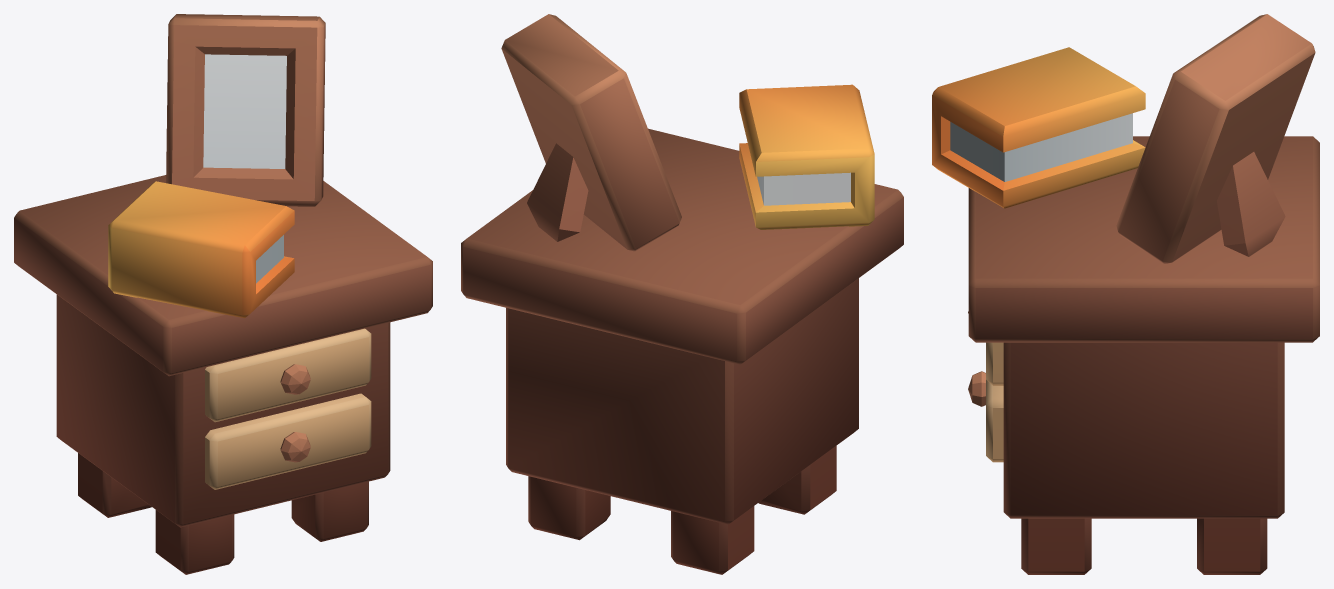
Rendered from cabinet-small-decorated.glb.
The picture shows the model from 3 angles, left to right: view 1: azimuth 30°, elevation 25°; view 2: azimuth 150°, elevation 25°; view 3: azimuth 270°, elevation 25°; orthographic projection. The views are drawn at different scales.
Parts seen in each view (by area): view 1: cabinet_small_decorated; view 2: cabinet_small_decorated; view 3: cabinet_small_decorated.
Part boxes in pixels (x1,y1,x2,y2): cabinet_small_decorated: [14, 14, 432, 574]; cabinet_small_decorated: [461, 14, 903, 574]; cabinet_small_decorated: [932, 14, 1319, 574].
Bounding box in the file's own units: 1.05 × 1.62 × 1.1.
